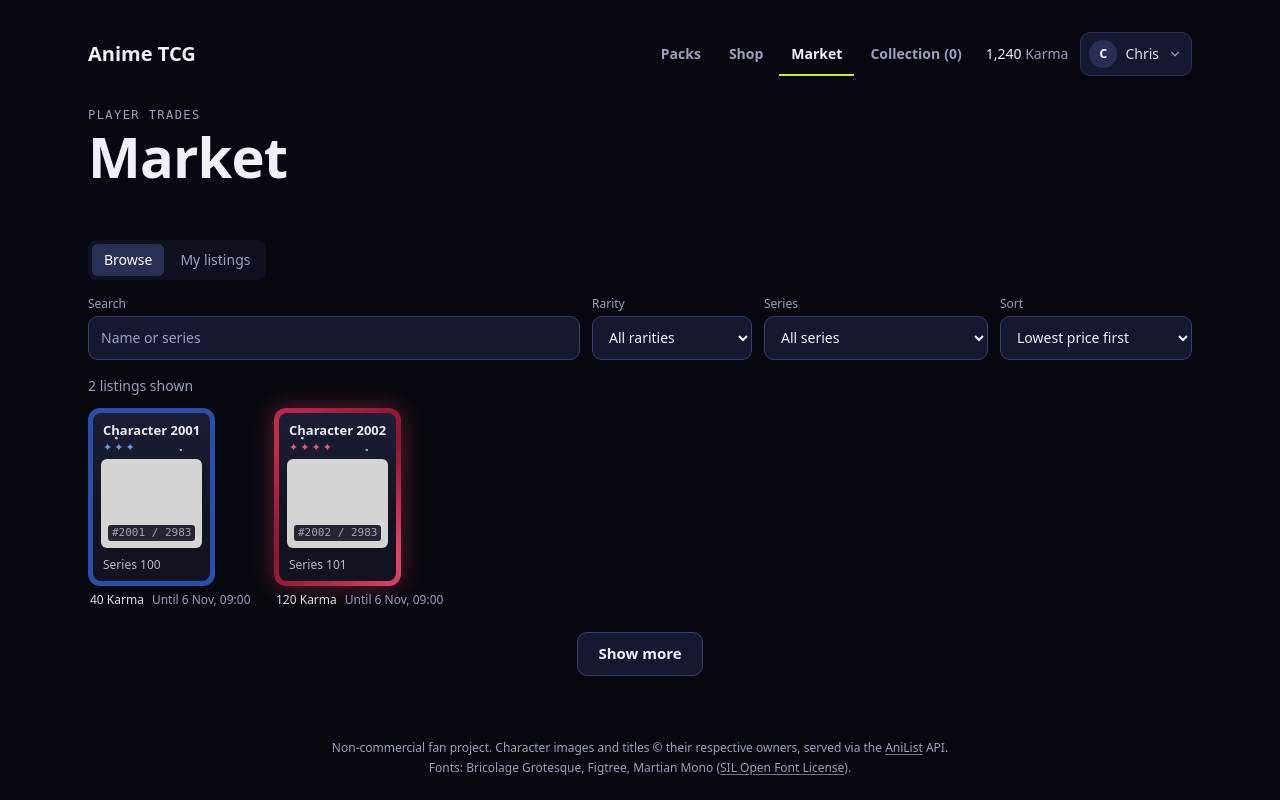
Test: /market: Browse (market-and-shop.md §3.4) › Show more pages through nextCursor, shows a repeated listing once, and keeps focus until the end
This screenshot has width=1280, height=800.
Check: the text "2 listings shown" is shown, box left=88, top=376, right=193, bottom=395
Click the button "Show more".
click(640, 654)  # box left=577, top=632, right=703, bottom=676
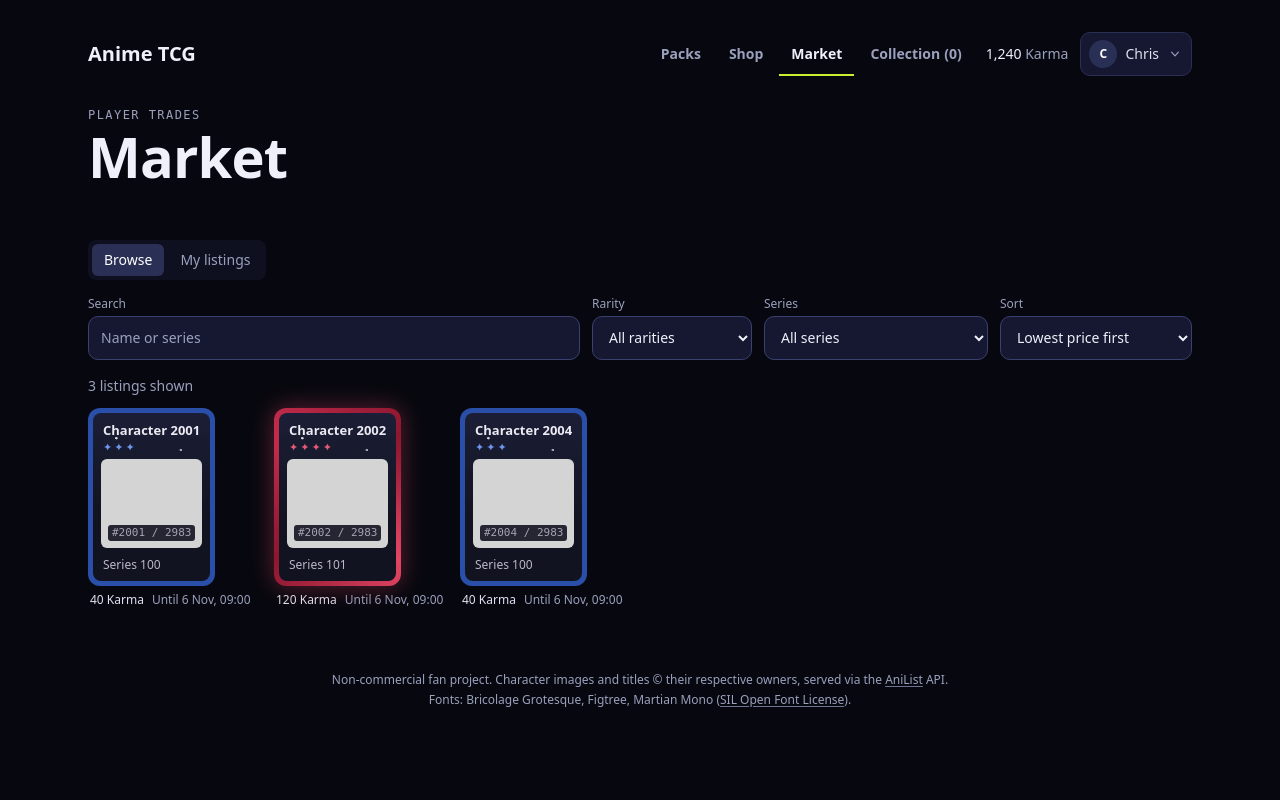
Check: the button "Show more" is gone
